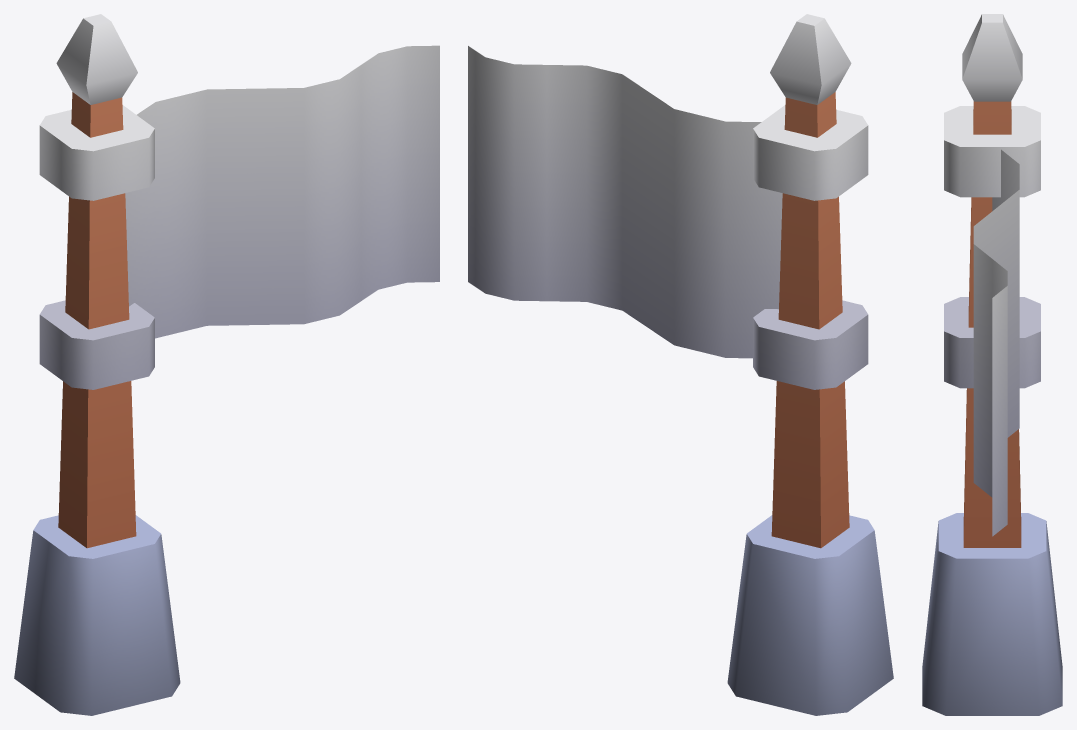
The model's file is flag.glb.
The picture shows the model from 3 angles, left to right: view 1: azimuth 30°, elevation 25°; view 2: azimuth 150°, elevation 25°; view 3: azimuth 270°, elevation 25°; orthographic projection.
Visible parts, largest first — view 1: flag; view 2: flag; view 3: flag.
Part boxes in pixels (left/top/right/bottom): flag: left=14, top=14, right=439, bottom=715; flag: left=468, top=14, right=893, bottom=715; flag: left=922, top=14, right=1062, bottom=715.
Bounding box in the file's own units: 1.34 × 2.1 × 0.3989.
Materials: 1 (1 with a texture image).
